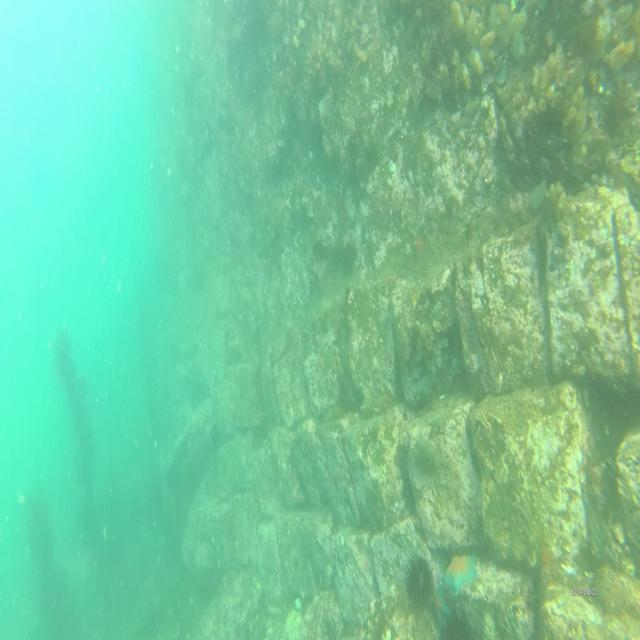echinus: (402, 549, 438, 611)
starfish: (443, 546, 478, 596), (428, 579, 450, 626)
